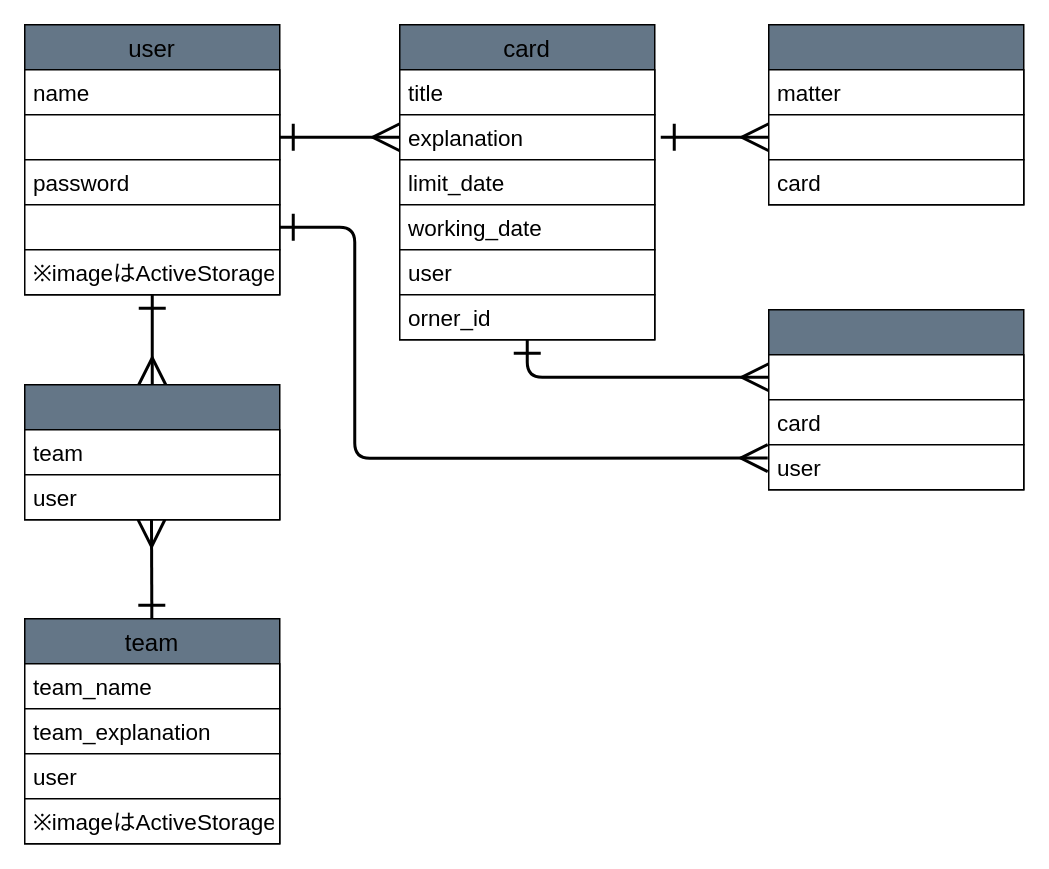
The diagram is 1049 pixels wide and 869 high, and some of its shapes have lost their labels. The box of each missing label's shape, as (x1, y1, x2, y2) in pixels:
comment: (767, 308, 1024, 490)
content: (767, 353, 1024, 400)
email: (23, 113, 280, 160)
finish: (767, 113, 1024, 160)
section: (23, 203, 280, 250)
task: (767, 23, 1024, 205)
trem_user: (23, 383, 280, 520)
